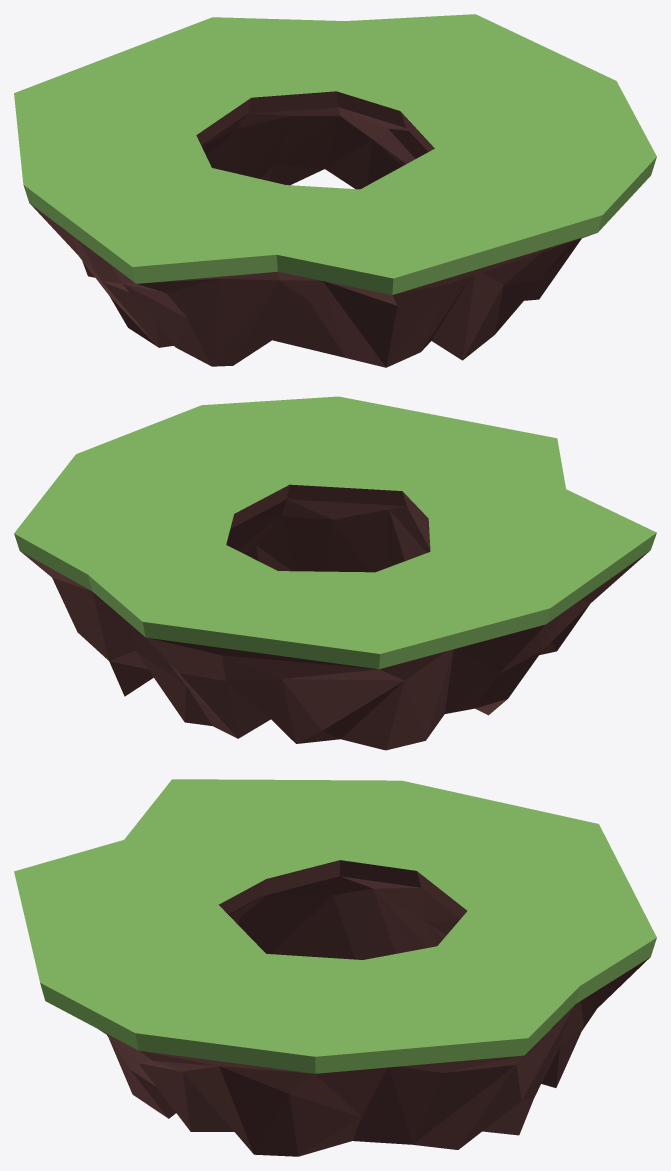
The model's file is Island7.fbx.
3 views of the same model, one above another, from view 1: azimuth 30°, elevation 25°; view 2: azimuth 150°, elevation 25°; view 3: azimuth 270°, elevation 25° (orthographic). The views are drawn at different scales.
Parts seen in each view (by area): view 1: Island7; view 2: Island7; view 3: Island7.
Part boxes in pixels (x1,y1,x2,y2): Island7: [14, 14, 656, 367]; Island7: [14, 396, 656, 750]; Island7: [14, 779, 656, 1156].
Size of the model in its own units: 5.23 by 1.4 by 5.12.
